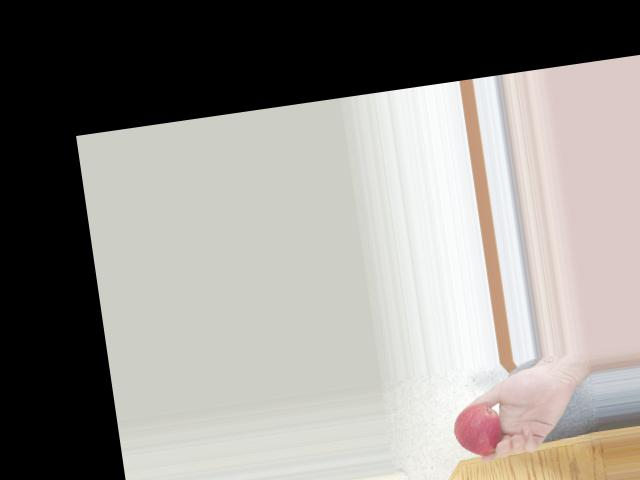apple: (448, 401, 505, 457)
